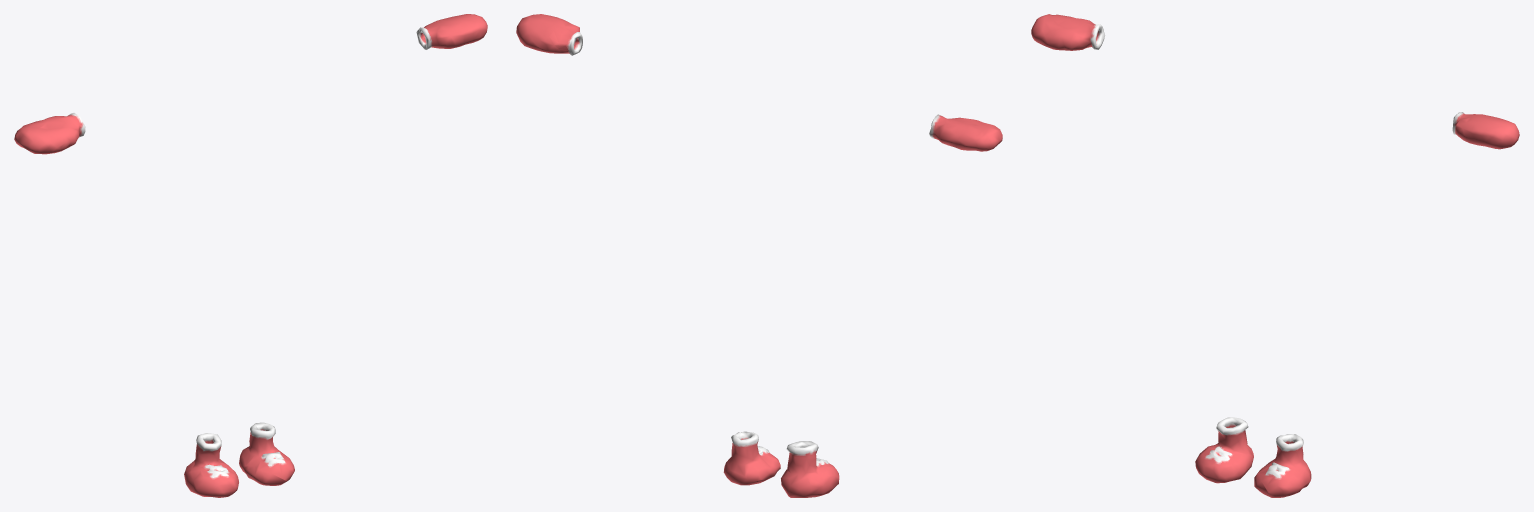
File: red shoes and gloves.glb
The picture shows the model from 3 angles, left to right: view 1: azimuth 30°, elevation 25°; view 2: azimuth 150°, elevation 25°; view 3: azimuth 330°, elevation 25°; orthographic projection. The views are drawn at different scales.
Visible parts, largest first — view 1: accessories_christmas_red.001; view 2: accessories_christmas_red.001; view 3: accessories_christmas_red.001.
Part boxes in pixels (left/top/right/bottom): accessories_christmas_red.001: left=14, top=14, right=487, bottom=497; accessories_christmas_red.001: left=516, top=14, right=1002, bottom=497; accessories_christmas_red.001: left=1031, top=14, right=1519, bottom=497.
Bounding box in the file's own units: 1.01 × 0.8403 × 0.1318.
Materials: 1 (1 with a texture image).
